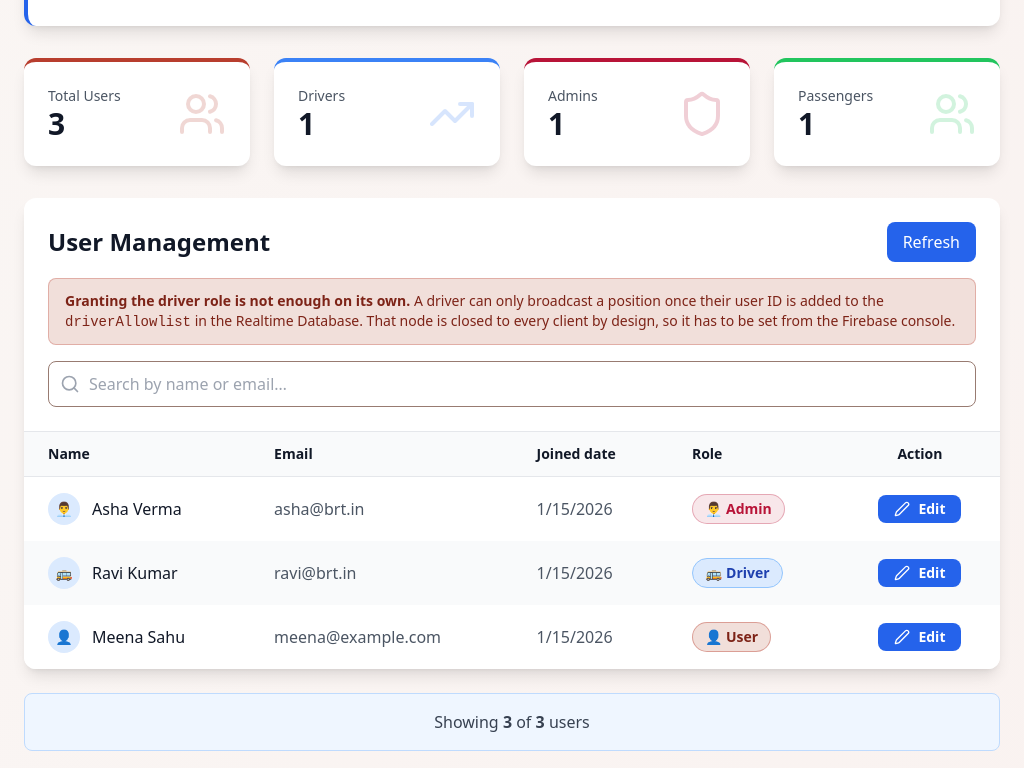
Test: searching the roster › narrows by name
(page scrolled)
Type "ravi" into the search field named "Search users by name or email".
click(512, 384); type("ravi")  # box [48,361,976,407]
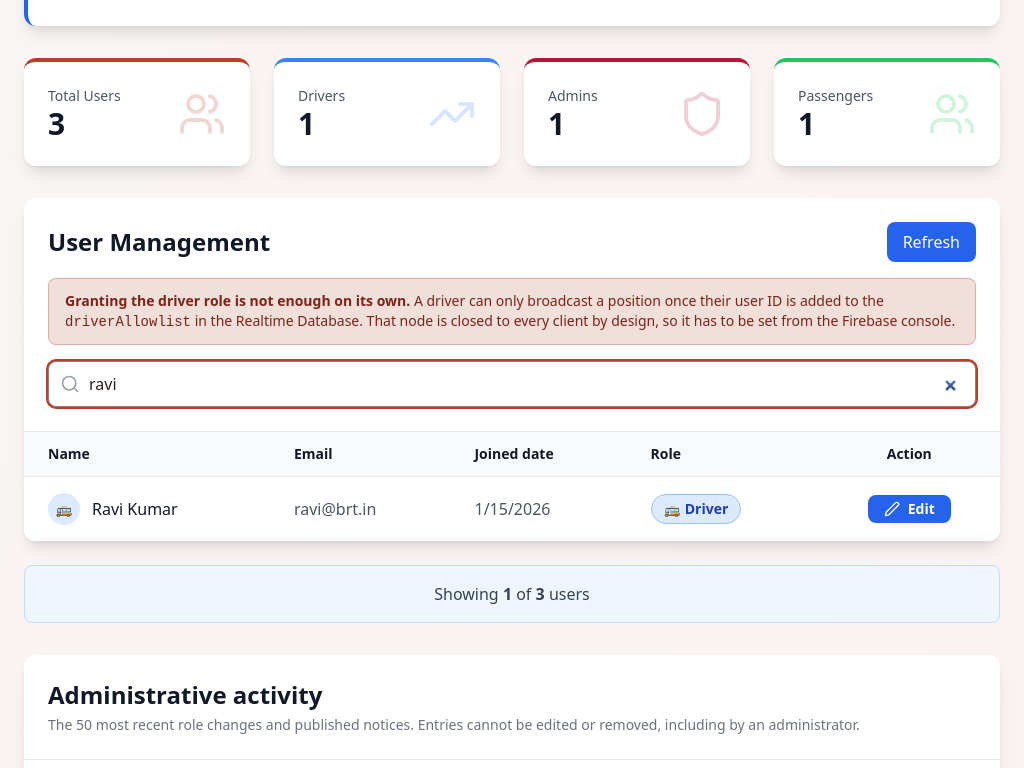
Check: the text "Ravi Kumar" is shown, box [92,497,178,521]
Check: the text "Meena Sahu" is gone
